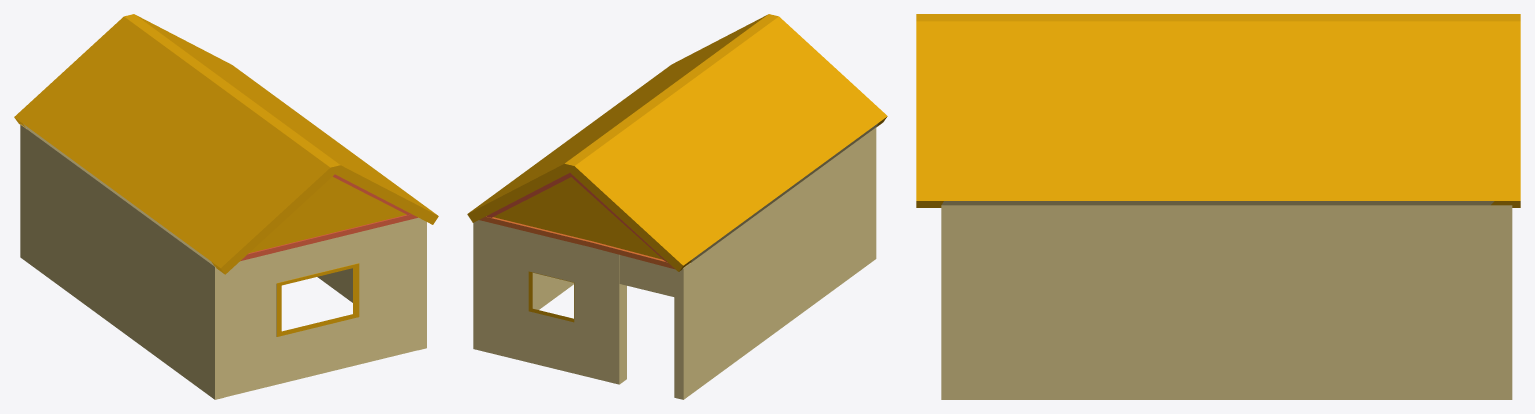
File: CASA_GAIOLA.fbx
The picture shows the model from 3 angles, left to right: view 1: azimuth 30°, elevation 25°; view 2: azimuth 150°, elevation 25°; view 3: azimuth 270°, elevation 25°; orthographic projection. The views are drawn at different scales.
Visible parts, largest first — view 1: Cube.003, Cube, Cube.018, Cube.019; view 2: Cube.003, Cube.001, Cube.002; view 3: Cube.003.
Boxes of the visible parts, x1,y1,x2,y2 form: Cube.003: (14,14,438,399); Cube: (276,263,359,336); Cube.018: (290,228,358,248); Cube.019: (354,214,417,232); Cube.003: (467,14,887,399); Cube.001: (479,216,675,269); Cube.002: (528,271,574,322); Cube.003: (916,14,1520,399).
Size of the model in its own units: 363 by 338 by 595.
